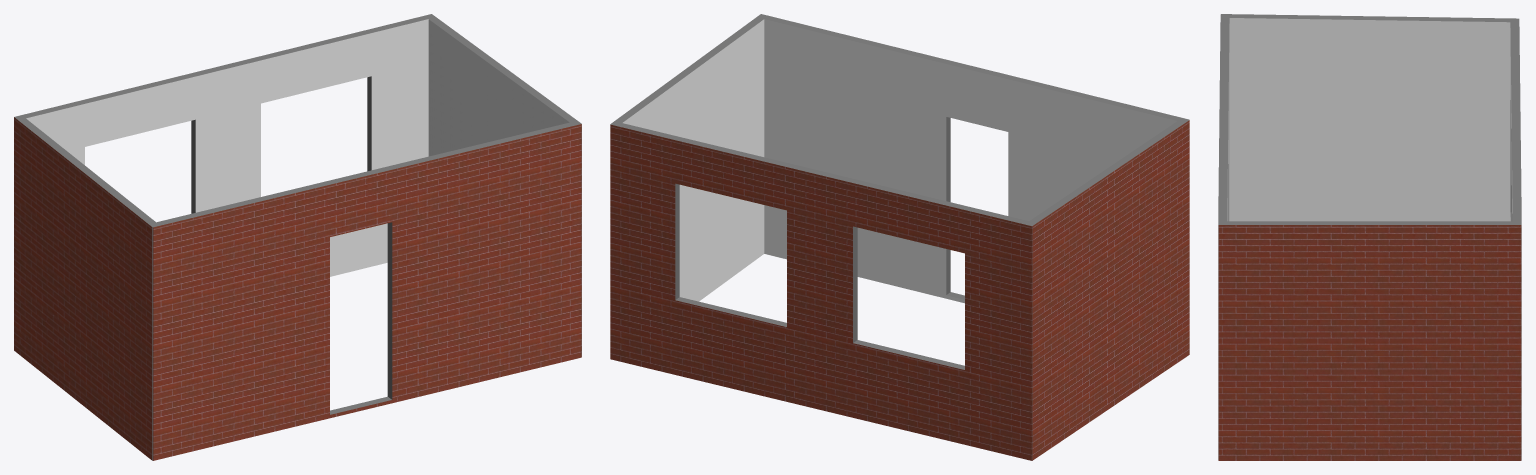
3 views of the same model, side by side, from view 1: azimuth 30°, elevation 25°; view 2: azimuth 150°, elevation 25°; view 3: azimuth 270°, elevation 25° (orthographic).
Parts seen in each view (by area): view 1: WallOutside#0_2_2, WallOutside#0_2_3, WallInside#0_2_0, WallInside#0_2_1, WallInside#0_2_2, WallOutside#0_2_0, WallOutside#0_2_1, WallInside#0_2_3; view 2: WallOutside#0_2_0, WallInside#0_2_2, WallOutside#0_2_3, WallInside#0_2_1, WallInside#0_2_0, WallOutside#0_2_2, WallInside#0_2_3, WallOutside#0_2_1; view 3: WallOutside#0_2_1, WallInside#0_2_3, WallInside#0_2_0, WallOutside#0_2_2, WallInside#0_2_2, WallOutside#0_2_0, WallInside#0_2_1, WallOutside#0_2_3.
Part boxes in pixels (bbox=[...]): WallOutside#0_2_2: bbox=[151, 123, 581, 460]; WallOutside#0_2_3: bbox=[14, 116, 154, 460]; WallInside#0_2_0: bbox=[21, 15, 435, 276]; WallInside#0_2_1: bbox=[425, 15, 577, 156]; WallInside#0_2_2: bbox=[149, 121, 578, 412]; WallOutside#0_2_0: bbox=[15, 14, 432, 213]; WallOutside#0_2_1: bbox=[428, 14, 581, 356]; WallInside#0_2_3: bbox=[18, 115, 159, 225]; WallOutside#0_2_0: bbox=[610, 123, 1033, 460]; WallInside#0_2_2: bbox=[757, 16, 1185, 303]; WallOutside#0_2_3: bbox=[1030, 119, 1189, 460]; WallInside#0_2_1: bbox=[618, 15, 767, 301]; WallInside#0_2_0: bbox=[613, 121, 1035, 367]; WallOutside#0_2_2: bbox=[761, 14, 1188, 297]; WallInside#0_2_3: bbox=[1028, 118, 1185, 223]; WallOutside#0_2_1: bbox=[610, 14, 764, 124]; WallOutside#0_2_1: bbox=[1218, 223, 1521, 460]; WallInside#0_2_3: bbox=[1221, 16, 1516, 221]; WallInside#0_2_0: bbox=[1510, 18, 1517, 224]; WallOutside#0_2_2: bbox=[1218, 14, 1225, 460]; WallInside#0_2_2: bbox=[1222, 14, 1229, 224]; WallOutside#0_2_0: bbox=[1514, 18, 1521, 460]; WallInside#0_2_1: bbox=[1218, 221, 1520, 223]; WallOutside#0_2_3: bbox=[1221, 14, 1518, 20].
Size of the model in its own units: 5.25 by 2.73 by 3.19.
Materials: 12 (8 with a texture image).
